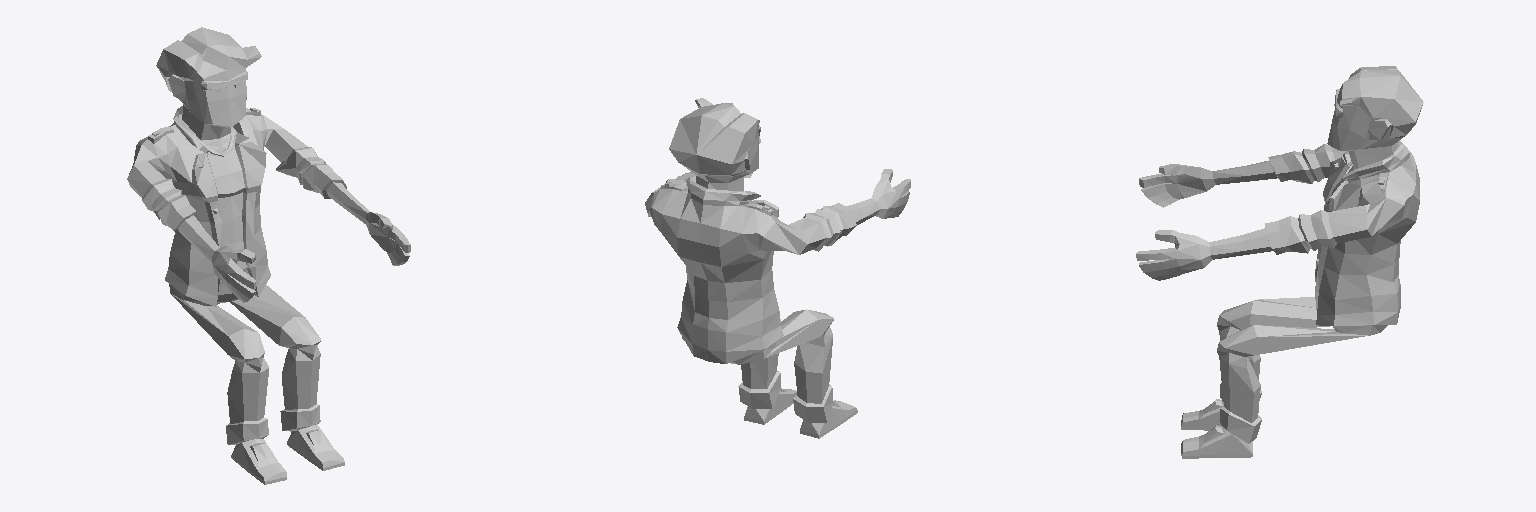
File: man_jacket_driving_ready.obj
The picture shows the model from 3 angles: view 1: azimuth 30°, elevation 25°; view 2: azimuth 150°, elevation 25°; view 3: azimuth 270°, elevation 25°; orthographic projection.
Parts seen in each view (by area): view 1: Character_Male_Jacket_Mesh.040; view 2: Character_Male_Jacket_Mesh.040; view 3: Character_Male_Jacket_Mesh.040.
Boxes of the visible parts, x1,y1,x2,y2 form: Character_Male_Jacket_Mesh.040: [127, 27, 410, 484]; Character_Male_Jacket_Mesh.040: [645, 98, 910, 438]; Character_Male_Jacket_Mesh.040: [1136, 66, 1423, 458].
Size of the model in its own units: 0.631 by 1.24 by 0.8857.